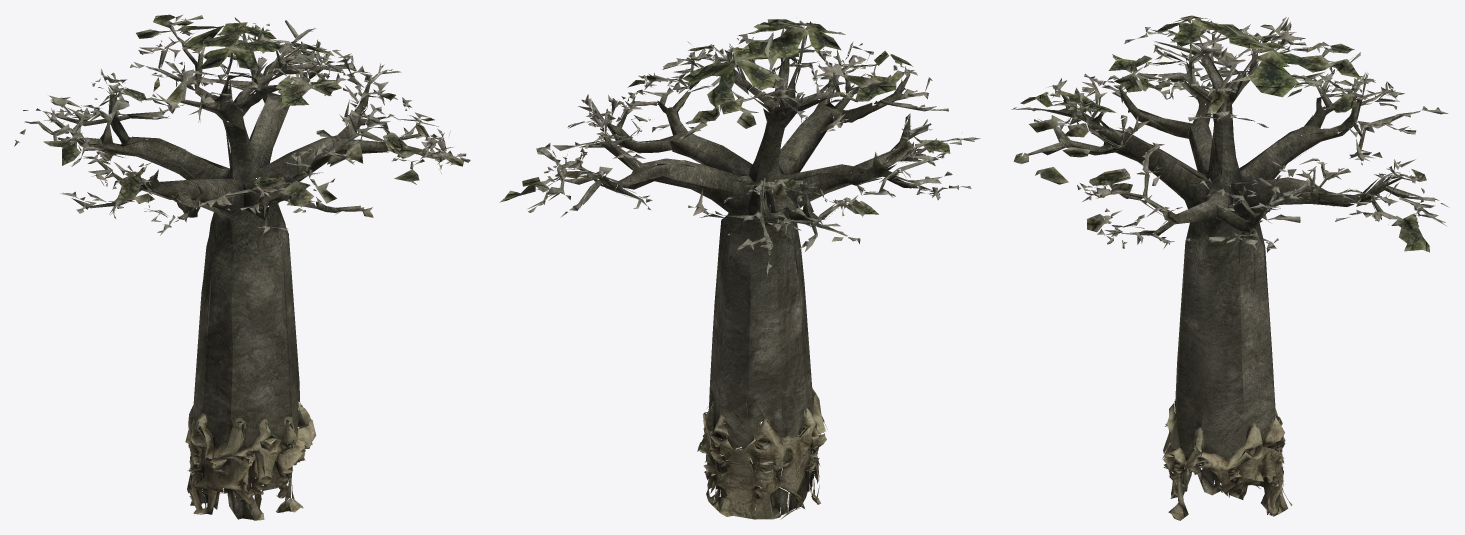
The model's file is baoba_zahar_adulta.glb.
3 renders of one model, left to right at view 1: azimuth 30°, elevation 25°; view 2: azimuth 150°, elevation 25°; view 3: azimuth 270°, elevation 25°, orthographic. The views are drawn at different scales.
Visible parts, largest first — view 1: geometry_0; view 2: geometry_0; view 3: geometry_0.
Part boxes in pixels (<box>): geometry_0: <box>14,14,470,520</box>; geometry_0: <box>499,19,980,519</box>; geometry_0: <box>1011,15,1449,520</box>.
Bounding box in the file's own units: 0.814 × 1 × 0.8278.
Materials: 1 (1 with a texture image).
